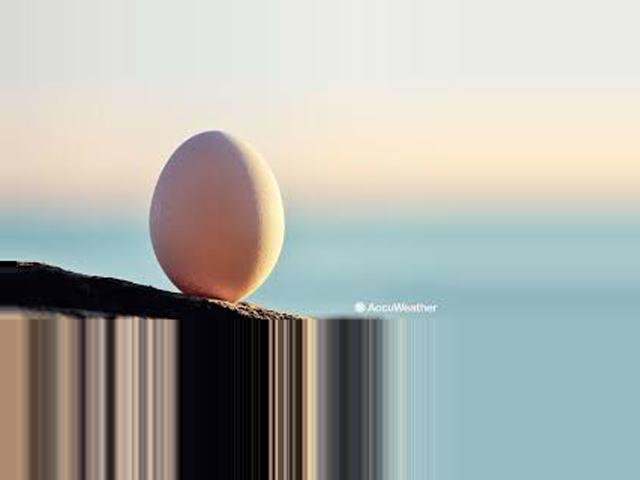egg: (148, 129, 285, 300)
